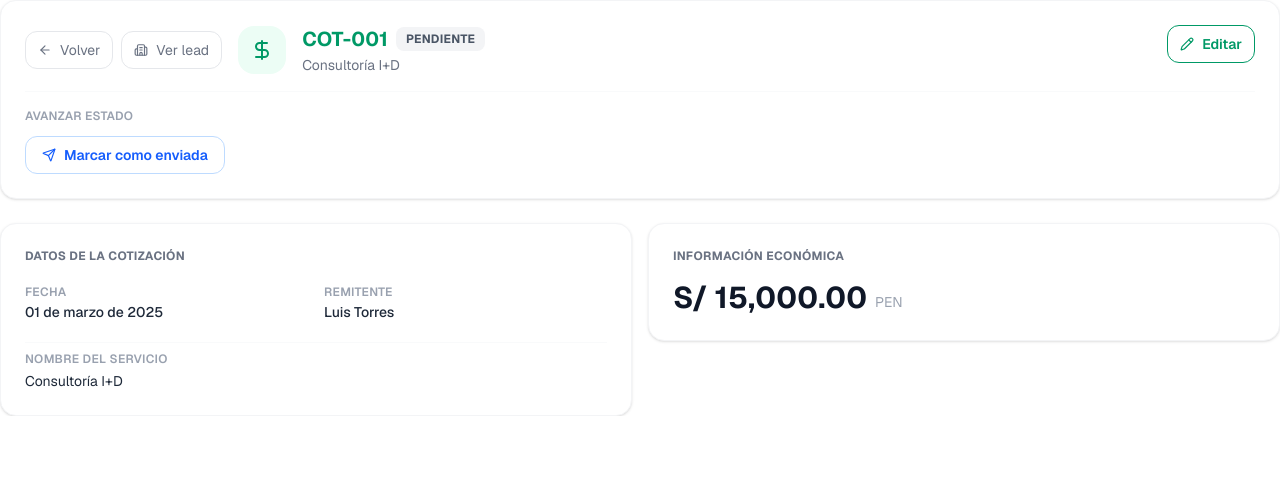
Test: modules/cotizaciones/CotizacionDetalle › shows error banner when action fails (getErrorMessage returns message)
This screenshot has width=1280, height=479.
Click the button "Marcar como enviada" at point(125, 155), box [25,136,225,174]
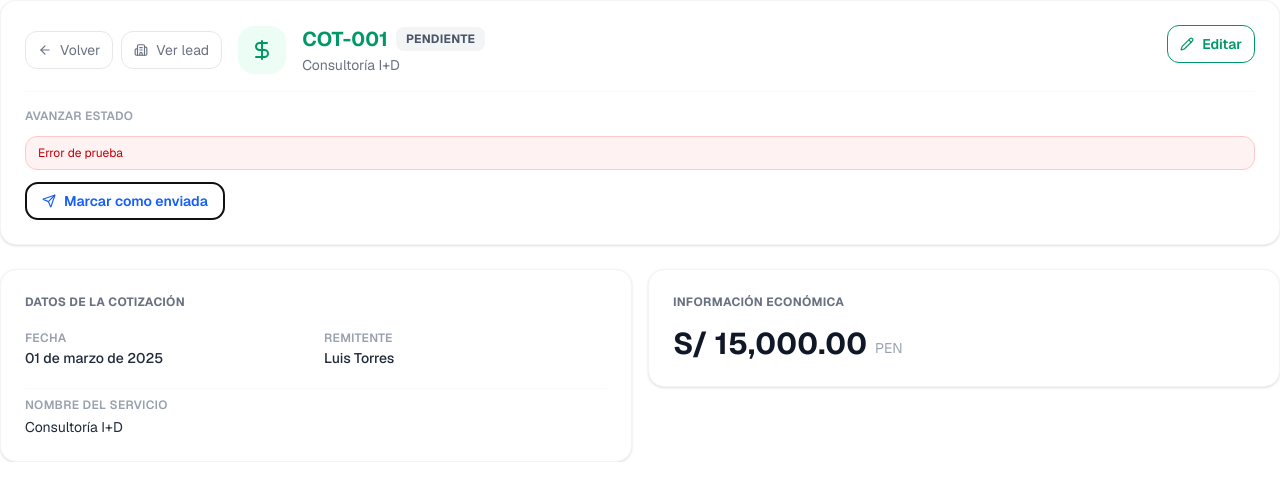
Check: the text "Error de prueba" is shown, box [25,136,1255,170]
